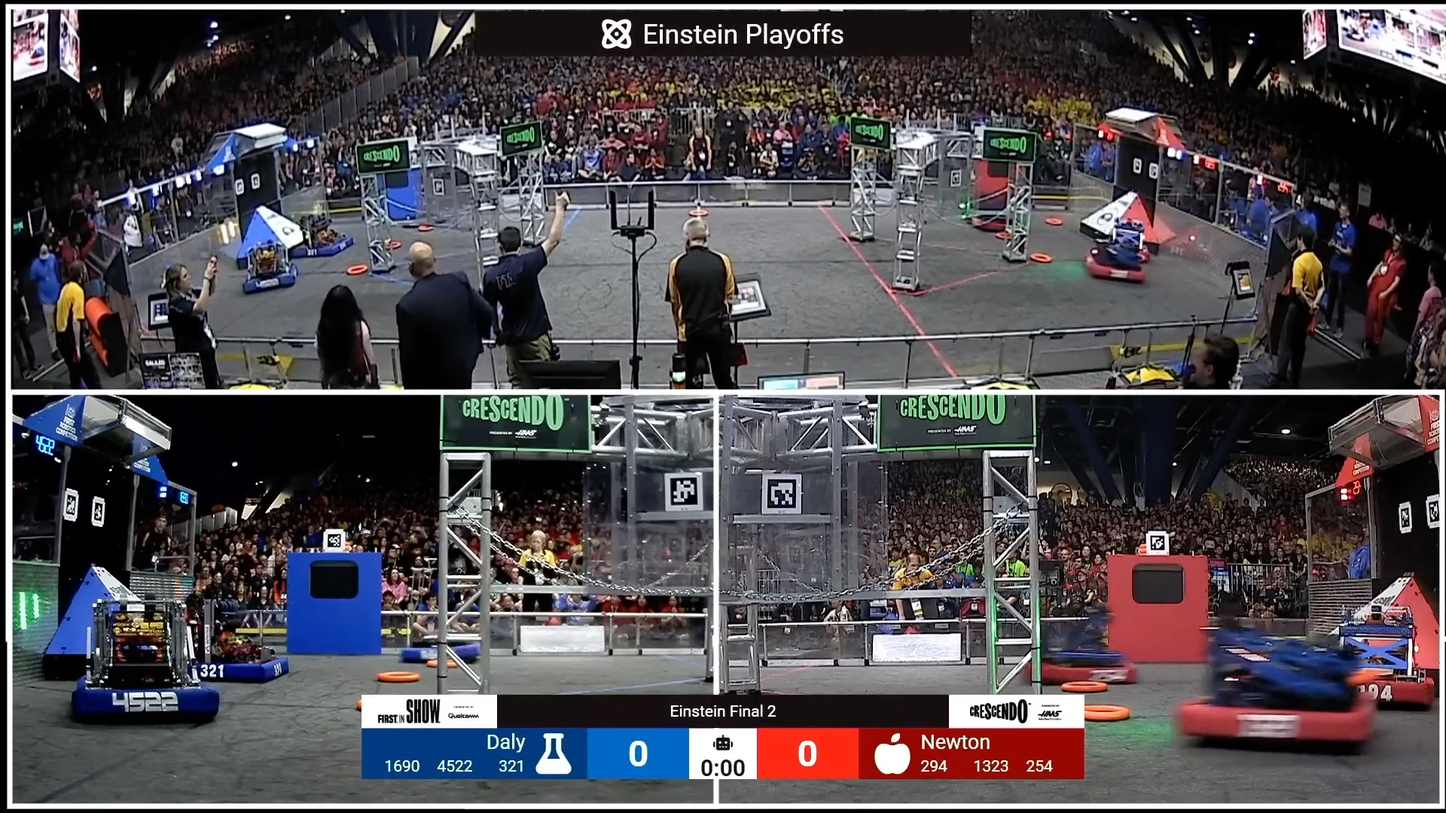bumpers: (1160, 688, 1383, 750), (63, 676, 227, 732), (1075, 241, 1168, 288), (1342, 678, 1435, 720), (191, 652, 300, 685), (393, 637, 485, 670), (227, 262, 306, 297), (267, 234, 358, 259)
